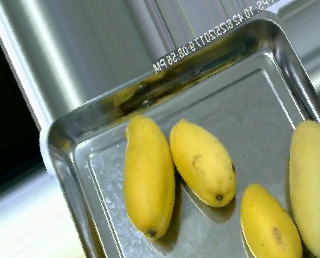Mango: (119, 113, 176, 241), (169, 117, 240, 210), (284, 113, 320, 257), (235, 181, 303, 257)
